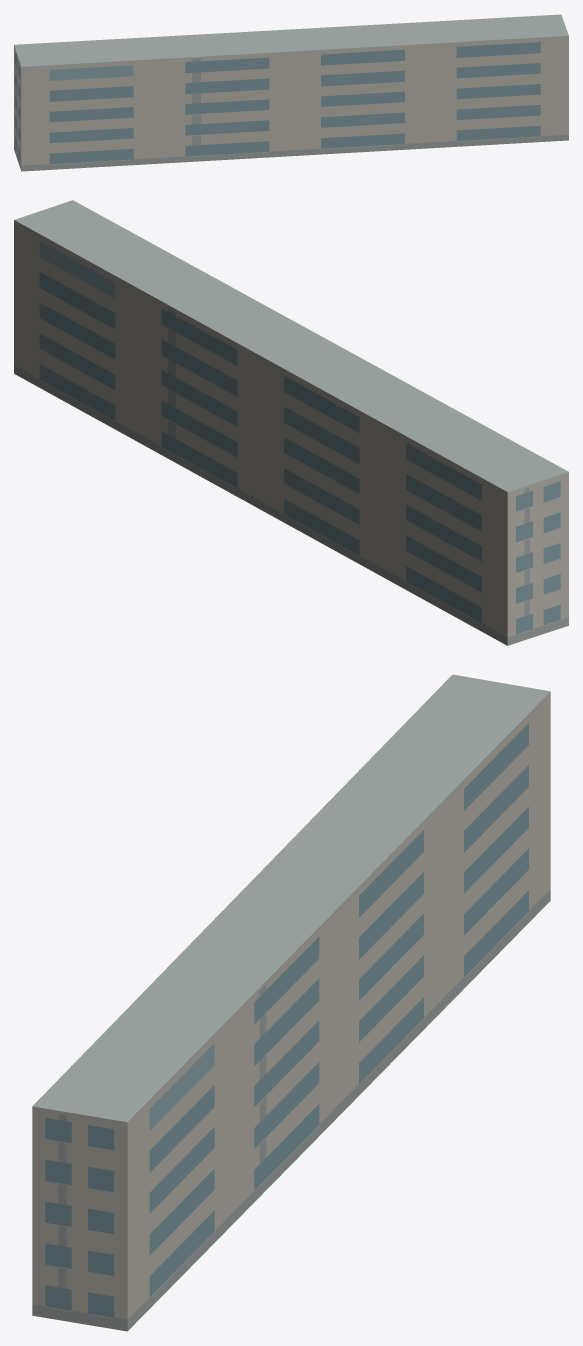
File: survey-upis-32783794.glb
3 views of the same model, one above another, from view 1: azimuth 30°, elevation 25°; view 2: azimuth 150°, elevation 25°; view 3: azimuth 270°, elevation 25° (orthographic). The views are drawn at different scales.
Visible parts, largest first — view 1: survey-upis-32783794.tmp; view 2: survey-upis-32783794.tmp; view 3: survey-upis-32783794.tmp.
Boxes of the visible parts, x1=… form: survey-upis-32783794.tmp: x1=14, y1=14, x2=568, y2=171; survey-upis-32783794.tmp: x1=14, y1=200, x2=568, y2=645; survey-upis-32783794.tmp: x1=32, y1=674, x2=550, y2=1331.
Size of the model in its own units: 69.98 by 15.25 by 34.25.
